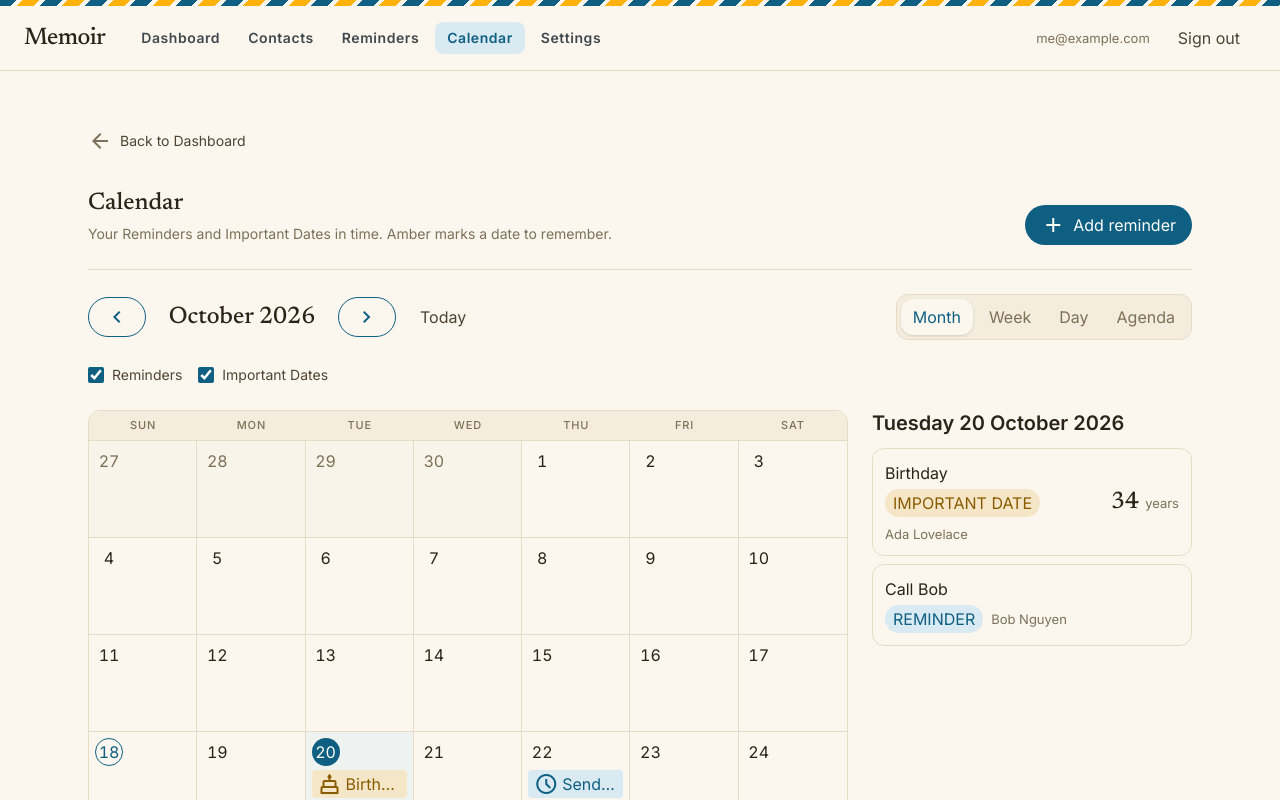
Calendar month view › lists the selected day's items in the day panel
Click the button named "Thursday 22 October 2026" at (542, 752), box [528,738,556,766]
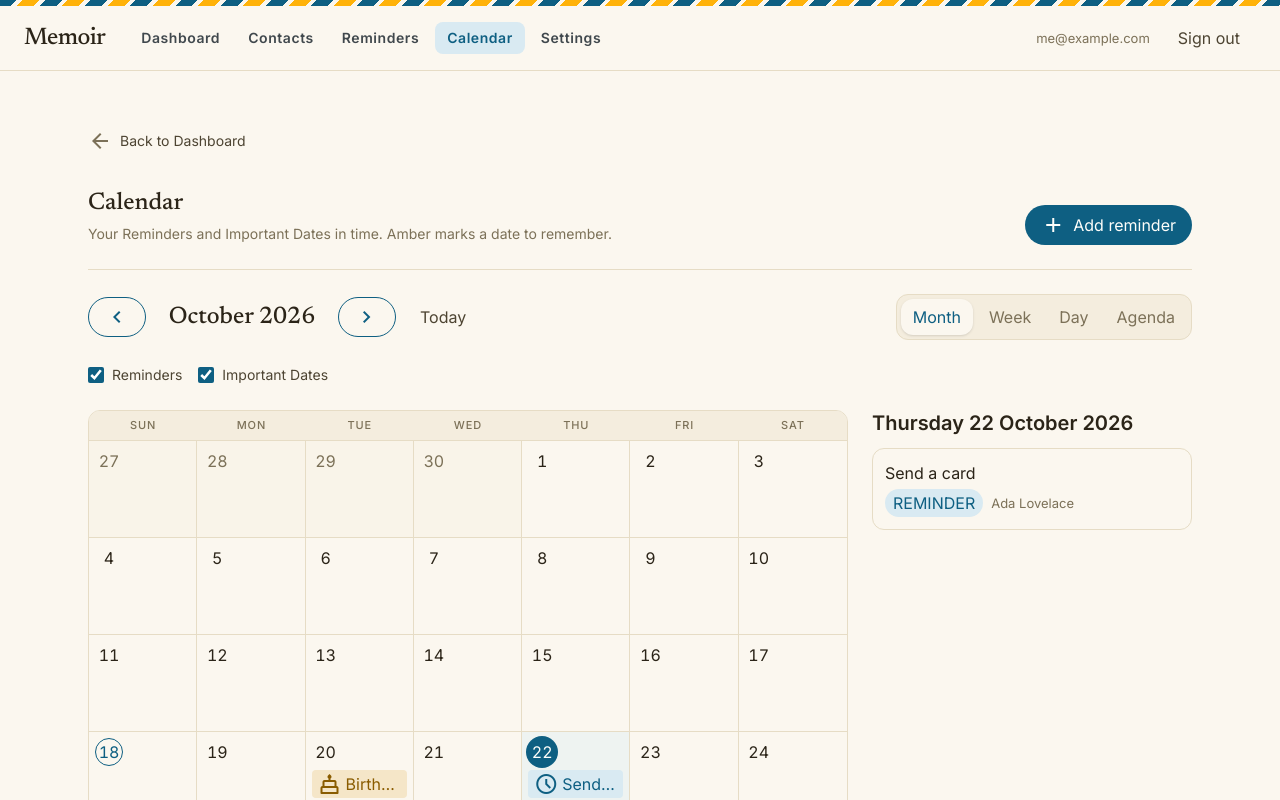
Expected: the text "Call Bob" is not shown
Now the heading "Thursday 22 October 2026" is shown, box [872,411,1133,435]
Now the text "Send a card" below "Thursday 22 October 2026" is shown, box [885,463,976,483]
